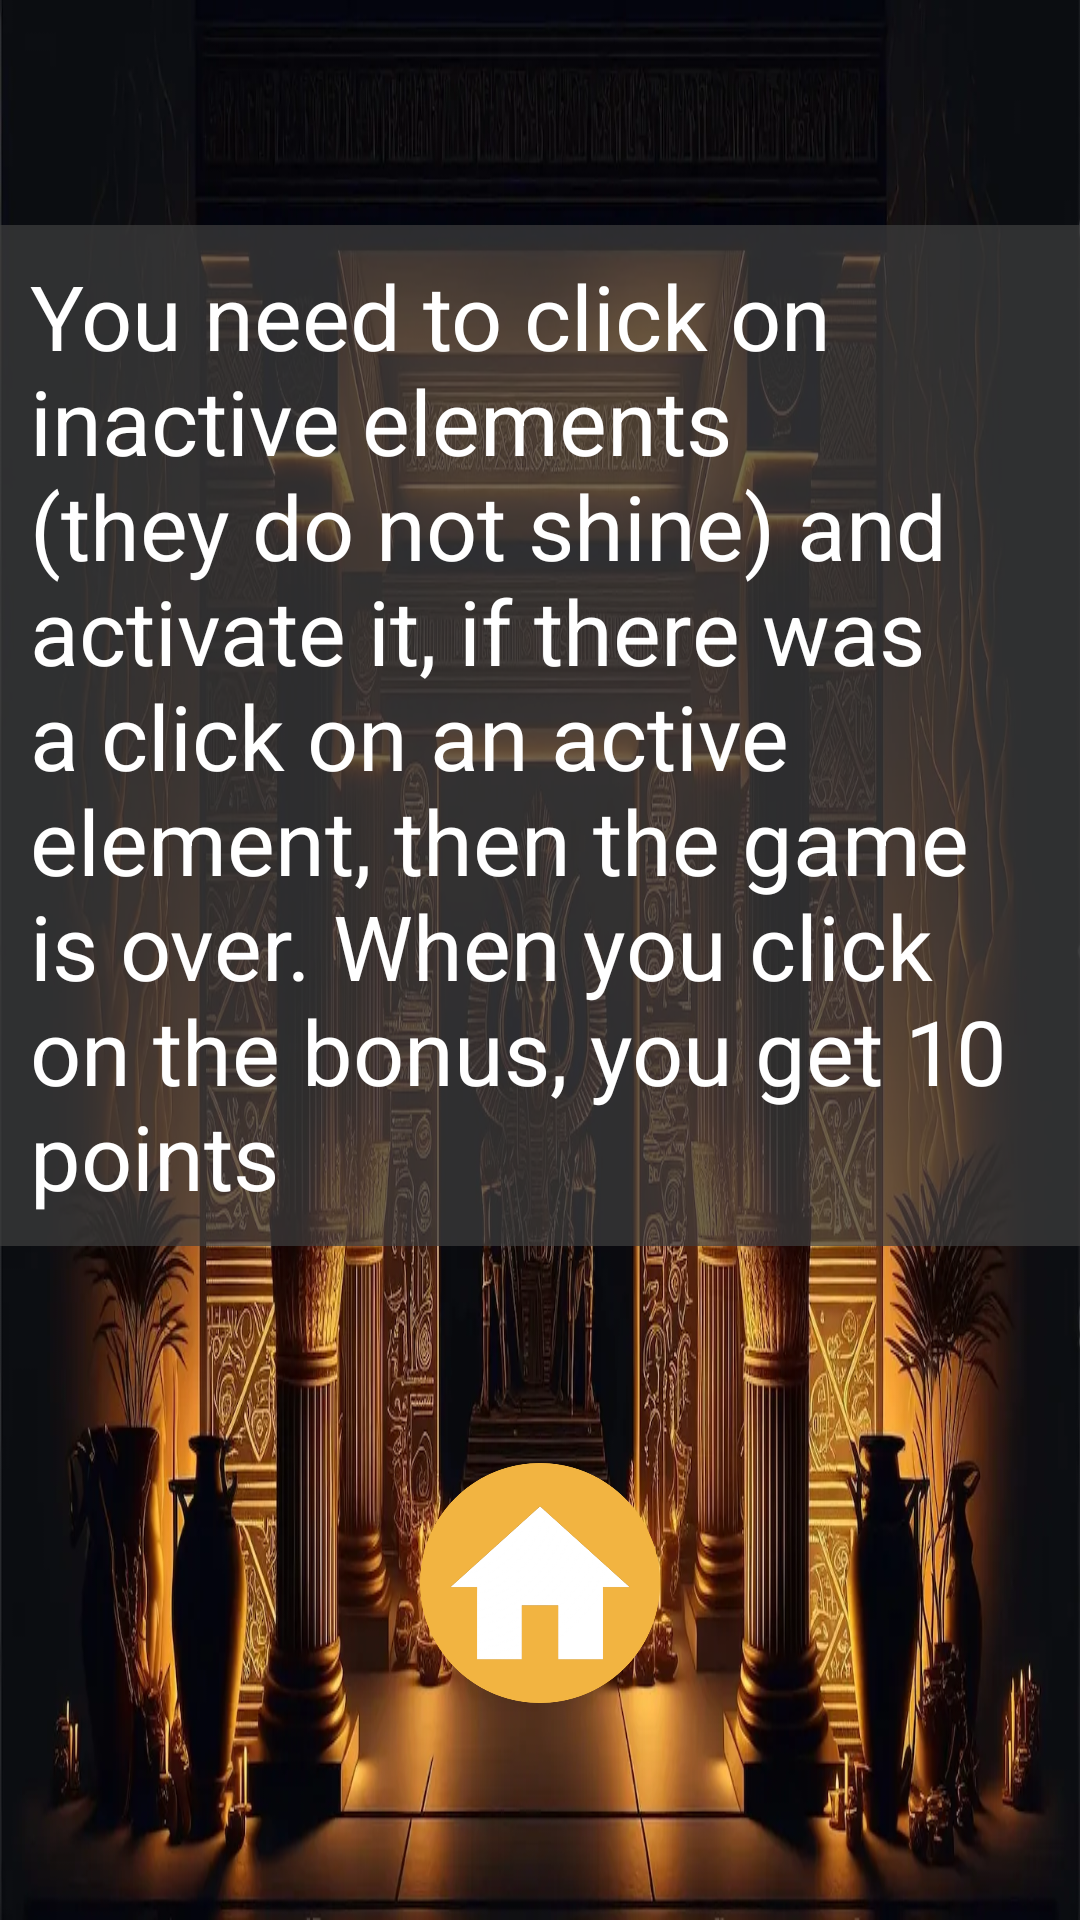

Screen size 1080 × 1920. Icon name, then its center in pixels as [x,y]:
Navigate to menu: [540,1583]
